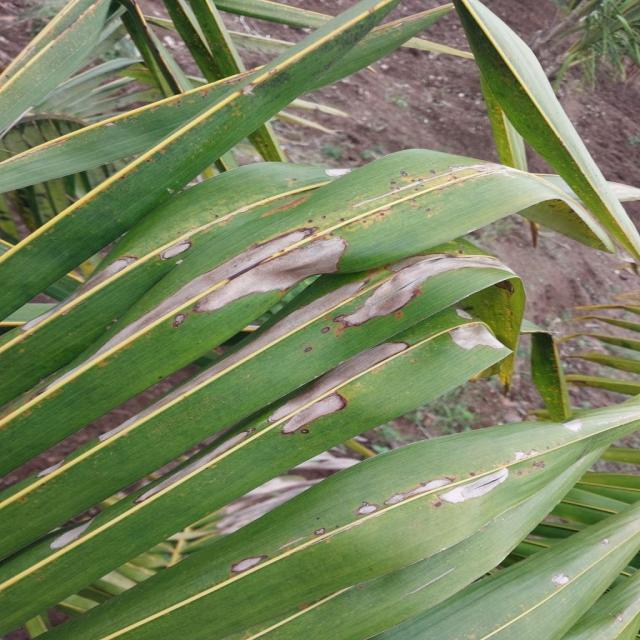gray leaf spot: (67, 201, 550, 517)
